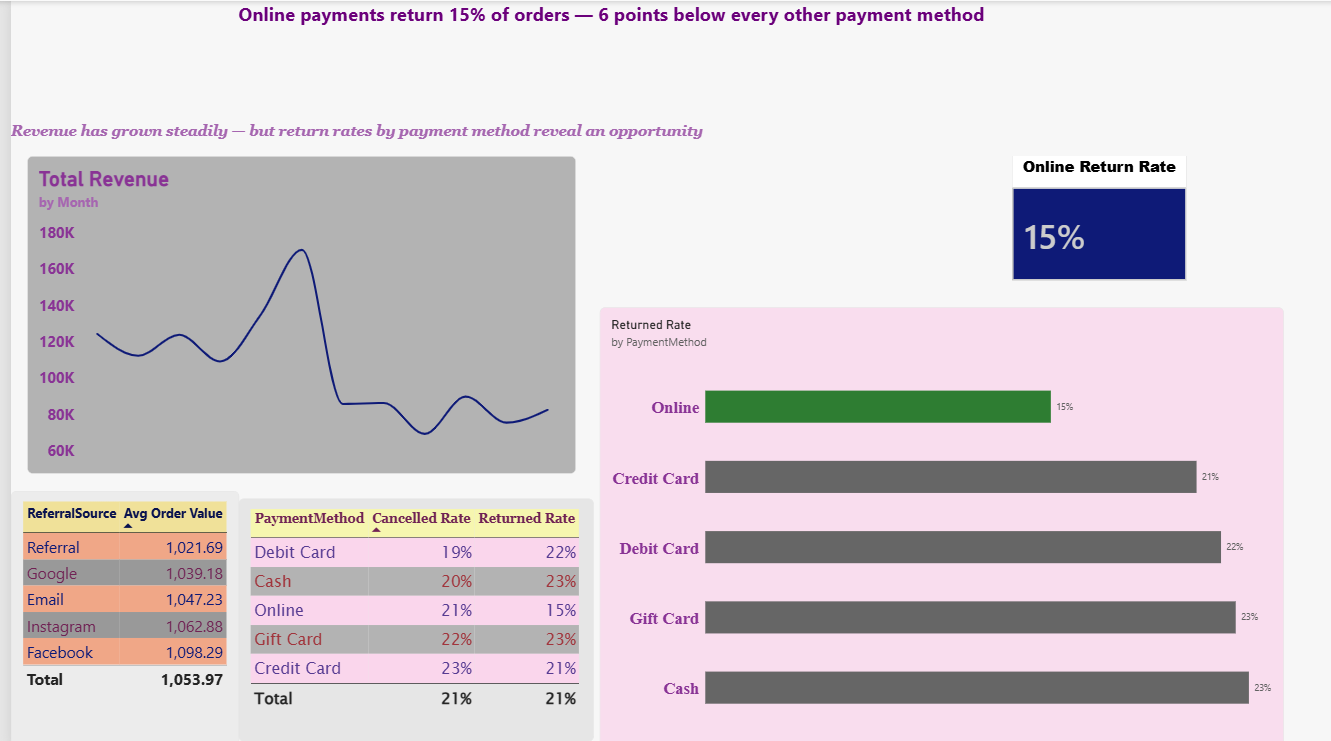

The page's visual inventory and layout, read from the dashboard file:
{"tool":"powerbi","page":{"name":"Page 1","canvas":[1920,1080],"ordinal":0},"visuals":[{"type":"tableEx","fields":{"Values":["Sheet1.ReferralSource","Sheet1.Avg Order Value"]},"box":[0,710,330,370],"z":0},{"type":"tableEx","fields":{"Values":["Sheet1.PaymentMethod","Sheet1.Cancelled Rate","Sheet1.Returned Rate"]},"box":[330,720,514,352],"z":1},{"type":"clusteredBarChart","fields":{"Category":["Sheet1.PaymentMethod"],"Y":["Sheet1.Returned Rate"]},"box":[852,444,990,636],"z":2},{"type":"textbox","box":[330,0,1120,100],"z":3},{"type":"cardVisual","title":"Online Return Rate","fields":{"Data":["Sheet1.Online Return Rate"]},"box":[1450,224,252,180],"z":4},{"type":"lineChart","fields":{"Category":["Sheet1.Date.Variation.Date Hierarchy.Month"],"Y":["Sheet1.Total Revenue"]},"box":[24,224,794,460],"z":5},{"type":"textbox","box":[818,224,150,460],"z":6},{"type":"textbox","box":[1770,224,150,460],"z":7},{"type":"textbox","box":[1770,224,150,460],"z":8},{"type":"textbox","box":[1770,224,150,460],"z":9},{"type":"textbox","box":[1770,224,150,460],"z":10},{"type":"textbox","box":[1770,224,150,460],"z":11},{"type":"textbox","box":[1770,224,150,460],"z":12},{"type":"textbox","box":[0,176,1002,48],"z":13}]}

Visuals, with their boxes in screenshot pixels (x1, y1, x2, y2), scaled from the page's 1920x1080 canvas onto the 1331x741 screenshot:
tableEx - Sheet1.ReferralSource x Sheet1.Avg Order Value: (0, 487, 229, 740)
tableEx - Sheet1.PaymentMethod x Sheet1.Cancelled Rate: (229, 494, 585, 736)
clusteredBarChart - Sheet1.PaymentMethod x Sheet1.Returned Rate: (591, 305, 1277, 740)
textbox: (229, 0, 1005, 69)
"Online Return Rate" cardVisual: (1005, 154, 1180, 277)
lineChart - Sheet1.Date.Variation.Date Hierarchy.Month x Sheet1.Total Revenue: (17, 154, 567, 469)
textbox: (567, 154, 671, 469)
textbox: (1227, 154, 1330, 469)
textbox: (1227, 154, 1330, 469)
textbox: (1227, 154, 1330, 469)
textbox: (1227, 154, 1330, 469)
textbox: (1227, 154, 1330, 469)
textbox: (1227, 154, 1330, 469)
textbox: (0, 121, 695, 154)
